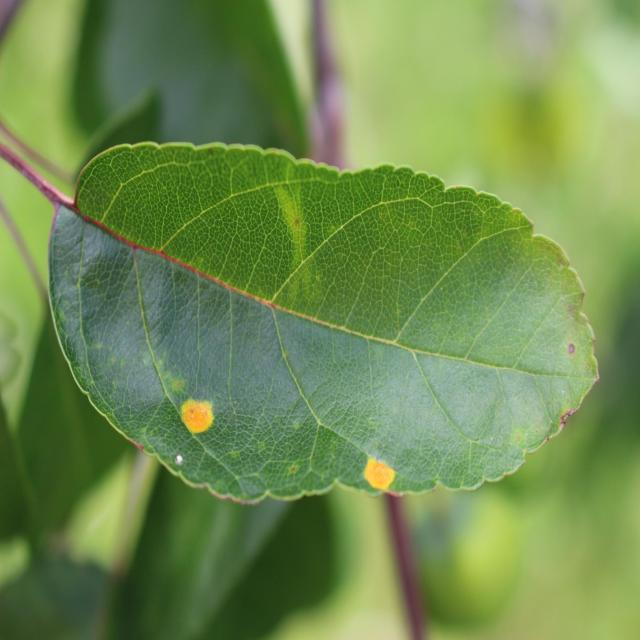Rust: (356, 448, 401, 506), (176, 387, 221, 443)
